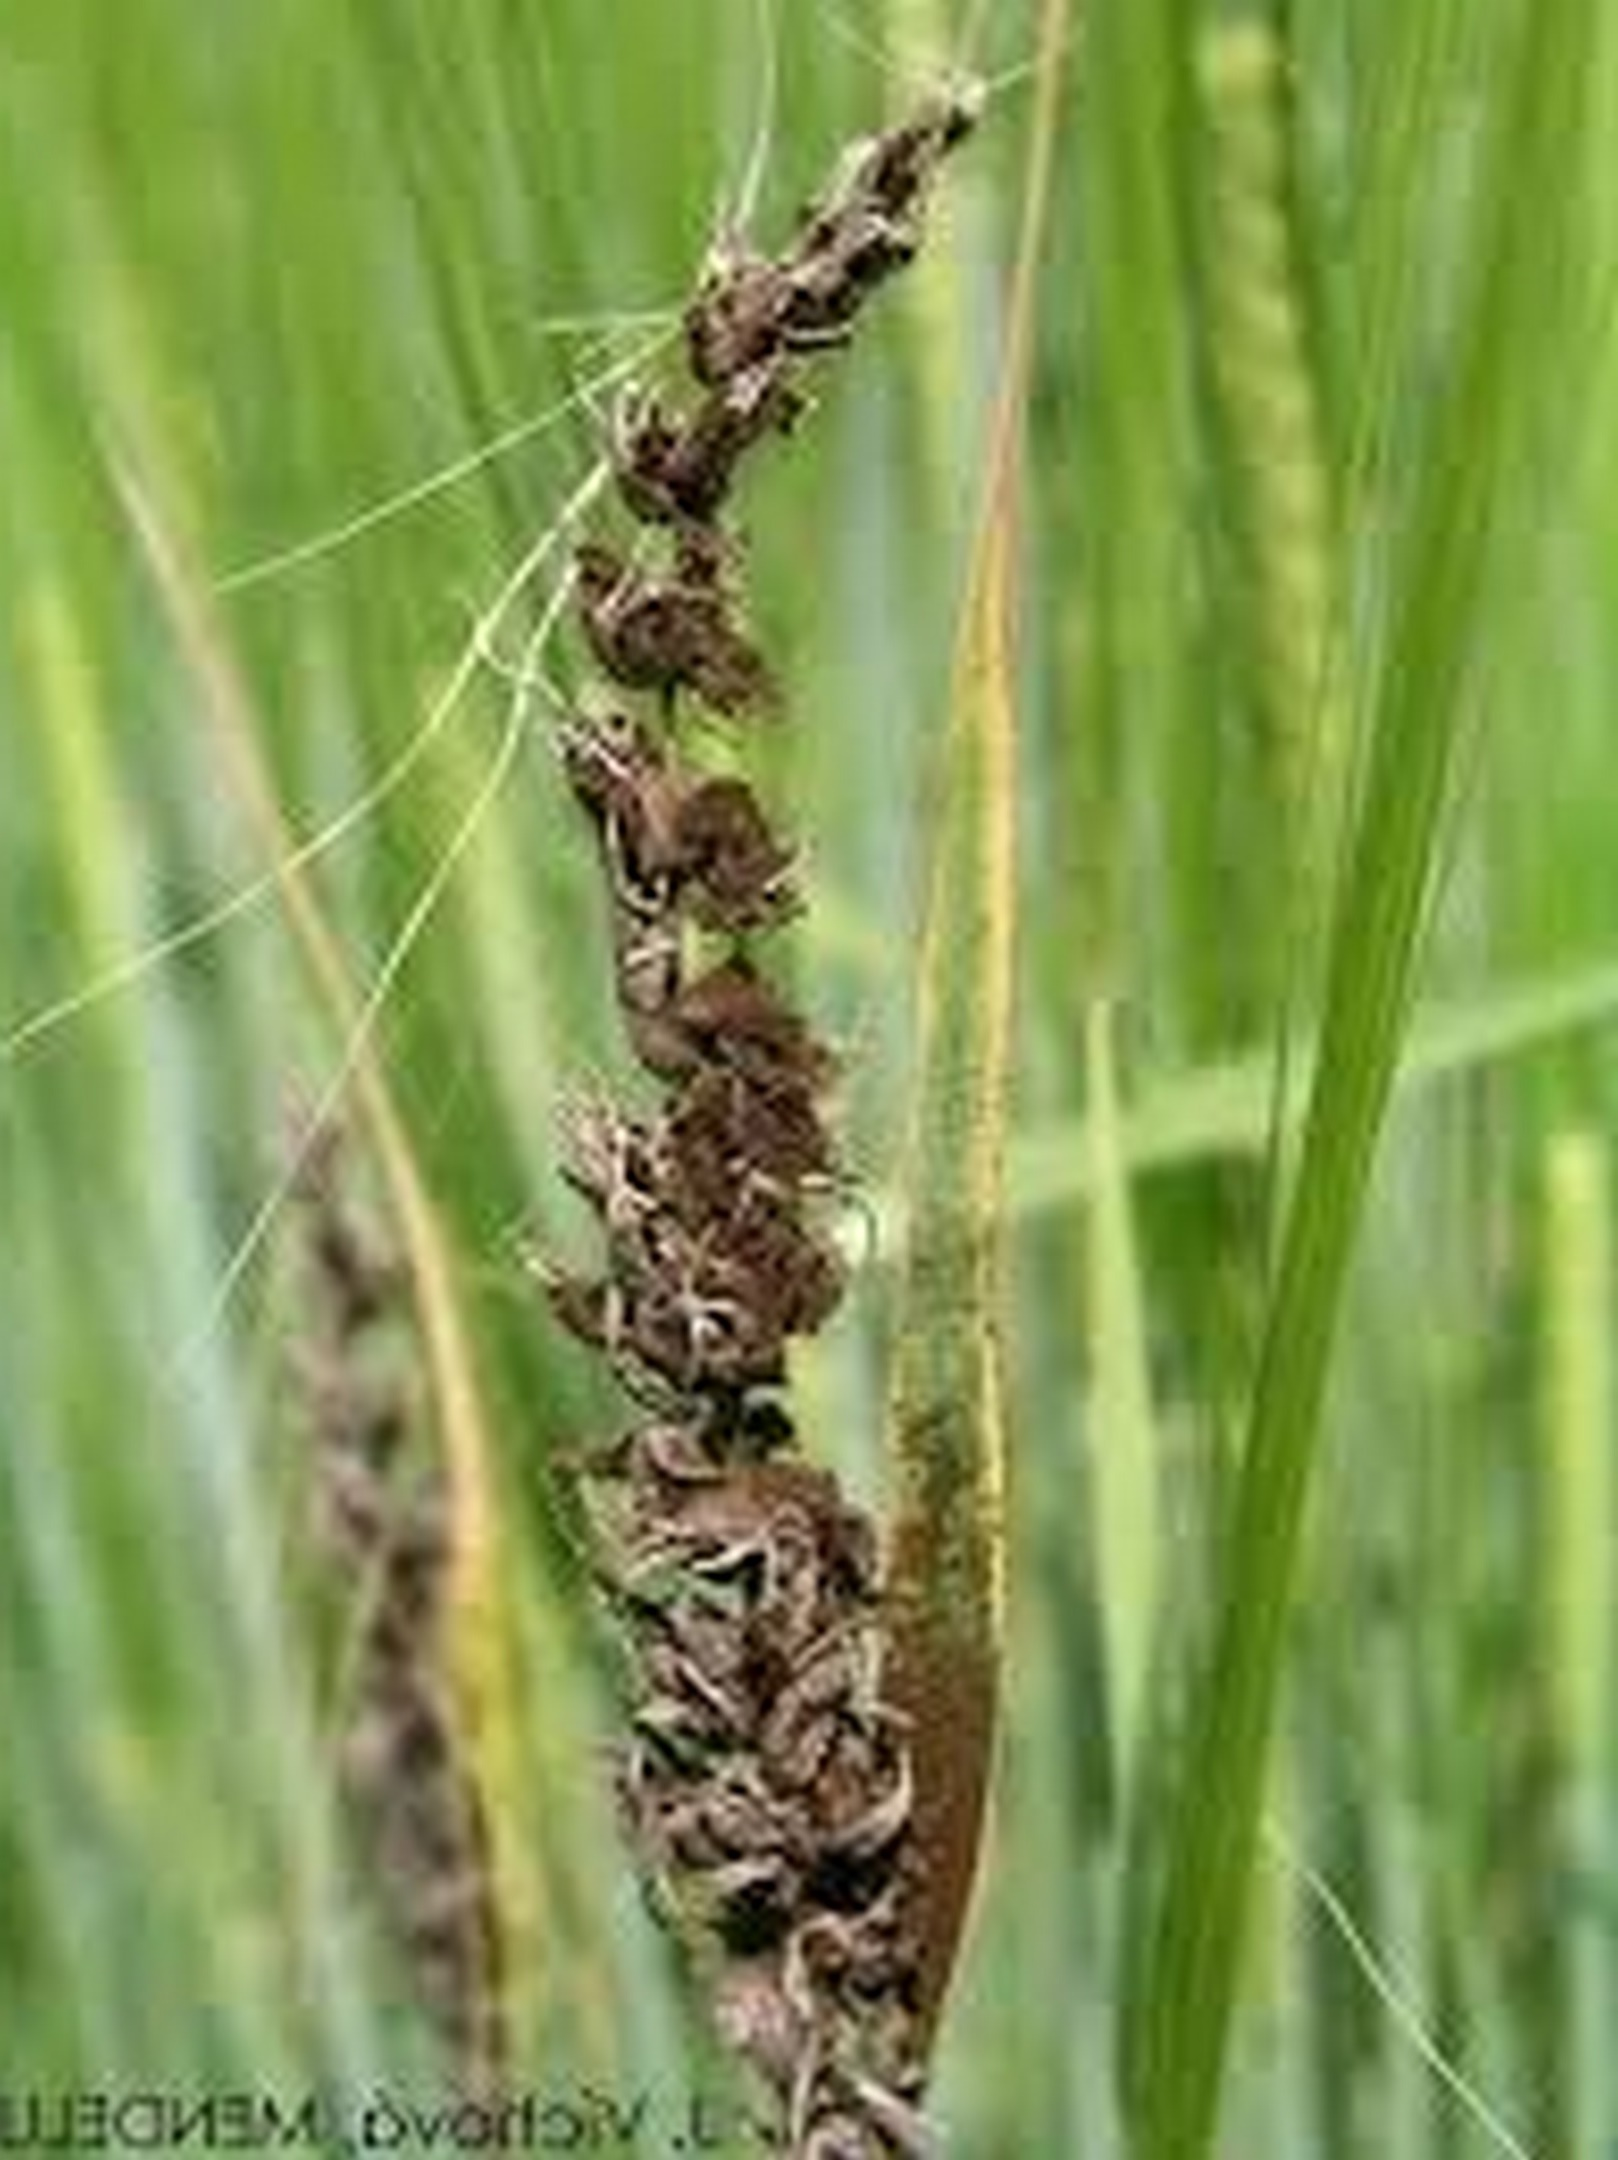Wheat Loose Smut: (530, 76, 972, 2022)
